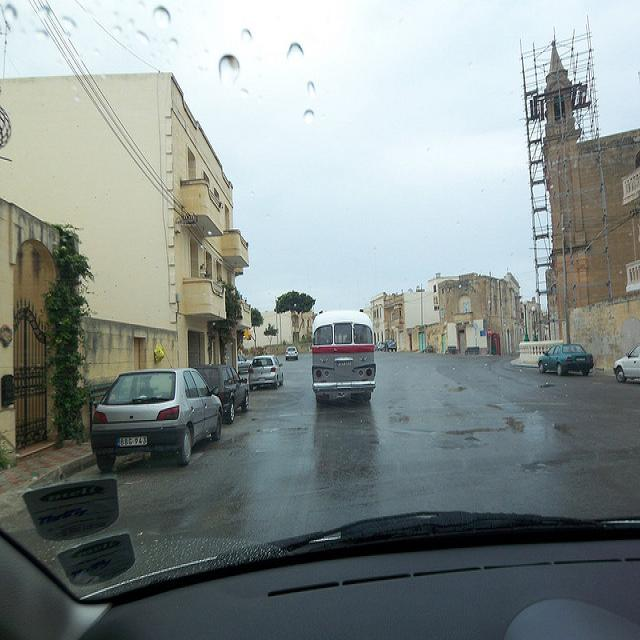Vehicle: (95, 366, 221, 466), (312, 308, 377, 406), (194, 364, 249, 424), (536, 343, 594, 376), (248, 354, 285, 392), (613, 342, 640, 383), (237, 354, 252, 373), (285, 346, 299, 360), (386, 338, 398, 353), (374, 340, 387, 352)
